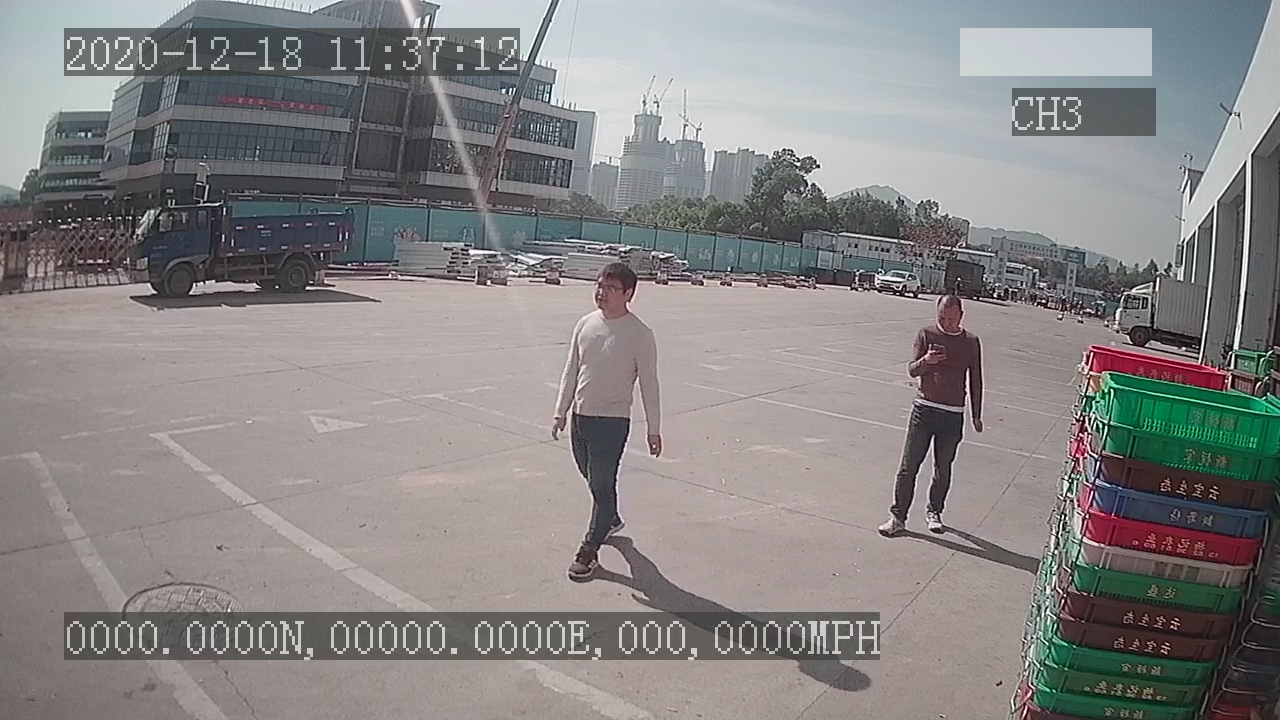person: (548, 262, 666, 586), (875, 290, 988, 547)
